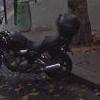Motorcycle: (4, 17, 76, 83)
